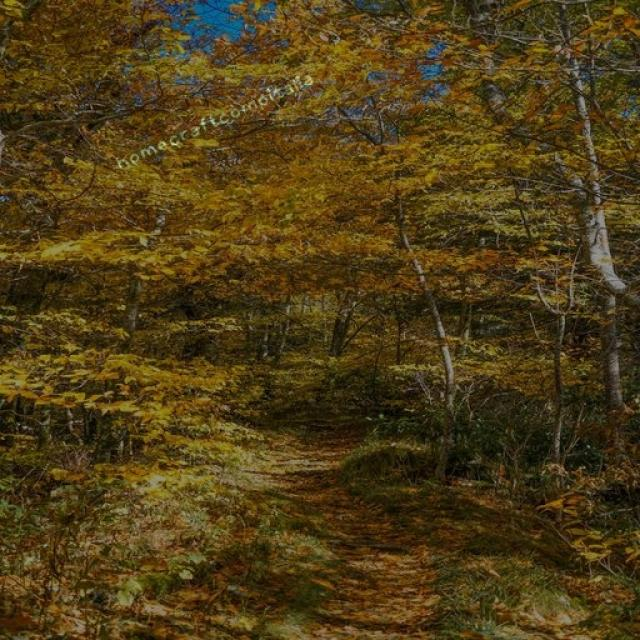watermark: (114, 68, 315, 172)
